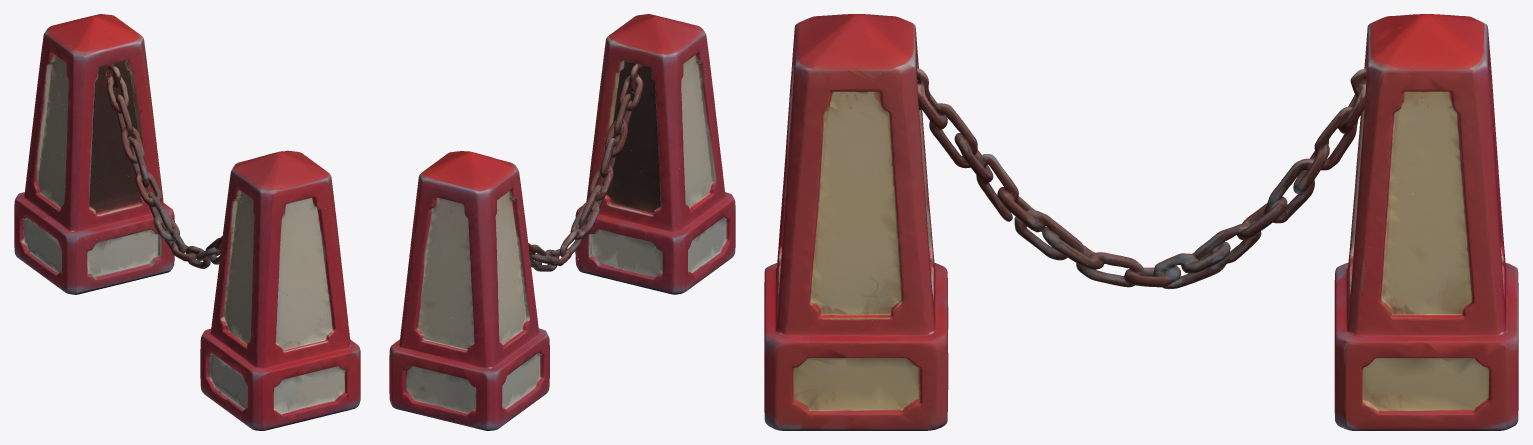
The model's file is pilar.glb.
3 views of the same model, side by side, from view 1: azimuth 30°, elevation 25°; view 2: azimuth 150°, elevation 25°; view 3: azimuth 270°, elevation 25° (orthographic). The views are drawn at different scales.
Visible parts, largest first — view 1: tripo_node_8b595ca5-46b3-4aea-aa51-4f7fc6829ed7; view 2: tripo_node_8b595ca5-46b3-4aea-aa51-4f7fc6829ed7; view 3: tripo_node_8b595ca5-46b3-4aea-aa51-4f7fc6829ed7.
Part boxes in pixels (x1,y1,x2,y2): tripo_node_8b595ca5-46b3-4aea-aa51-4f7fc6829ed7: [14, 14, 360, 430]; tripo_node_8b595ca5-46b3-4aea-aa51-4f7fc6829ed7: [389, 14, 735, 430]; tripo_node_8b595ca5-46b3-4aea-aa51-4f7fc6829ed7: [764, 14, 1518, 430].
Bounding box in the file's own units: 0.2538 × 0.5511 × 1.
1 material, 1 textured.
